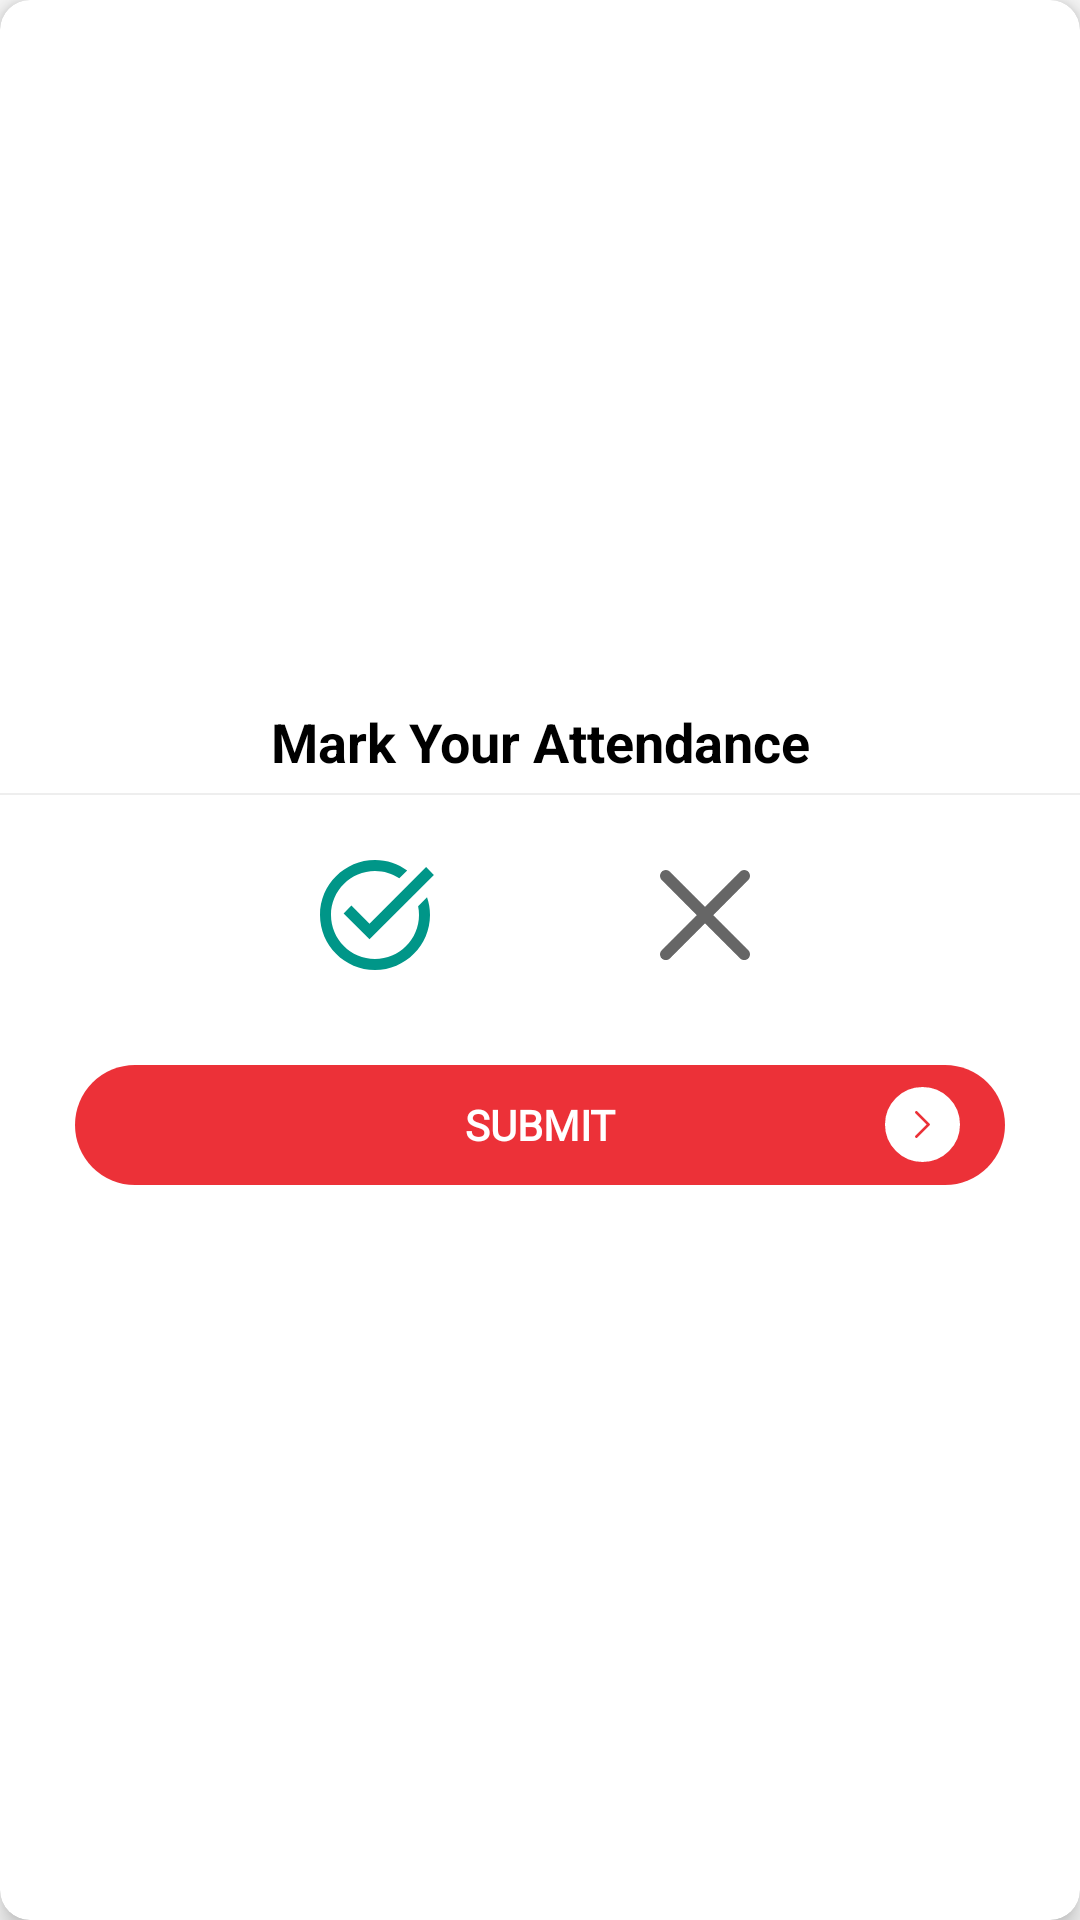

Icons on this 1080px×1920px Android screen, each with the point to tap as [x,y]:
next: [922,1124]
present checked: [377,915]
